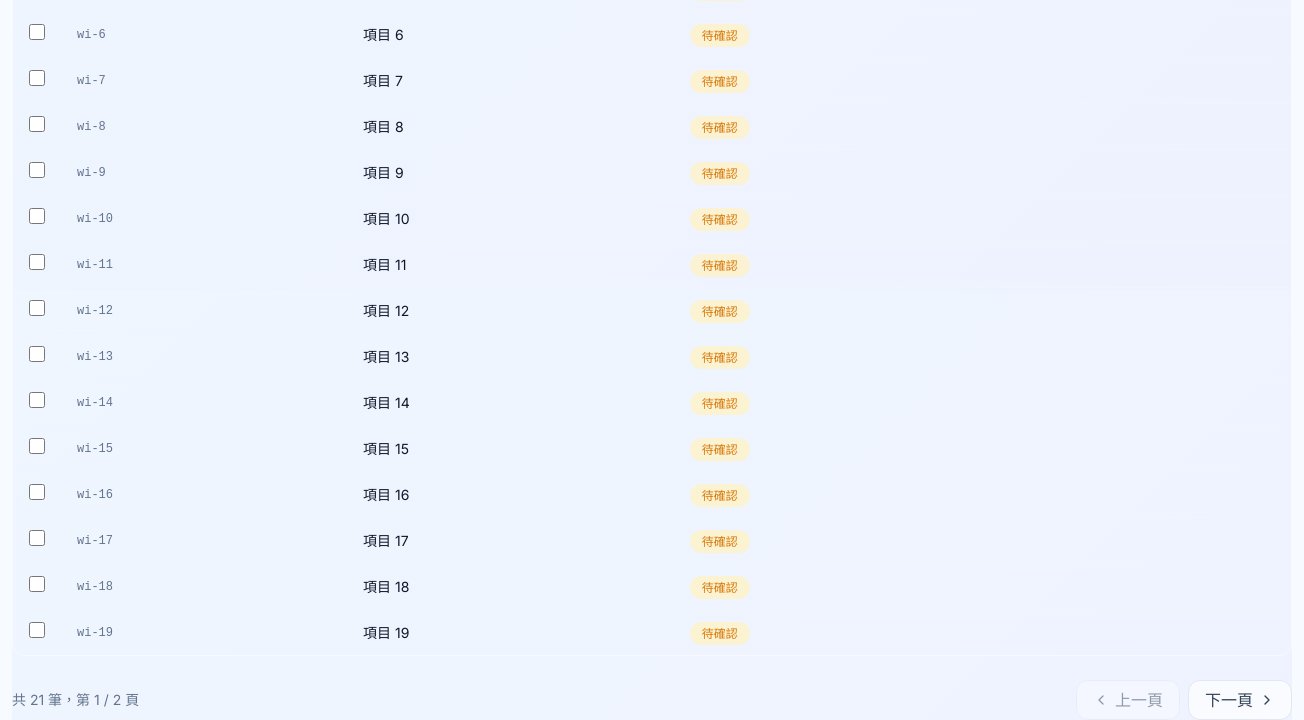
Test case: WorkItemsList › 分頁控制依 totalCount 渲染頁數並可翻頁
The width and height of the screenshot is (1304, 720).
(page scrolled)
Expected: the text "共 21 筆，第 1 / 2 頁" is shown, [12, 690, 139, 710]
Expected: the button "上一頁" is disabled, [1076, 680, 1180, 719]
Step 1. Click the button "下一頁" → (1240, 700), box [1188, 680, 1292, 719]
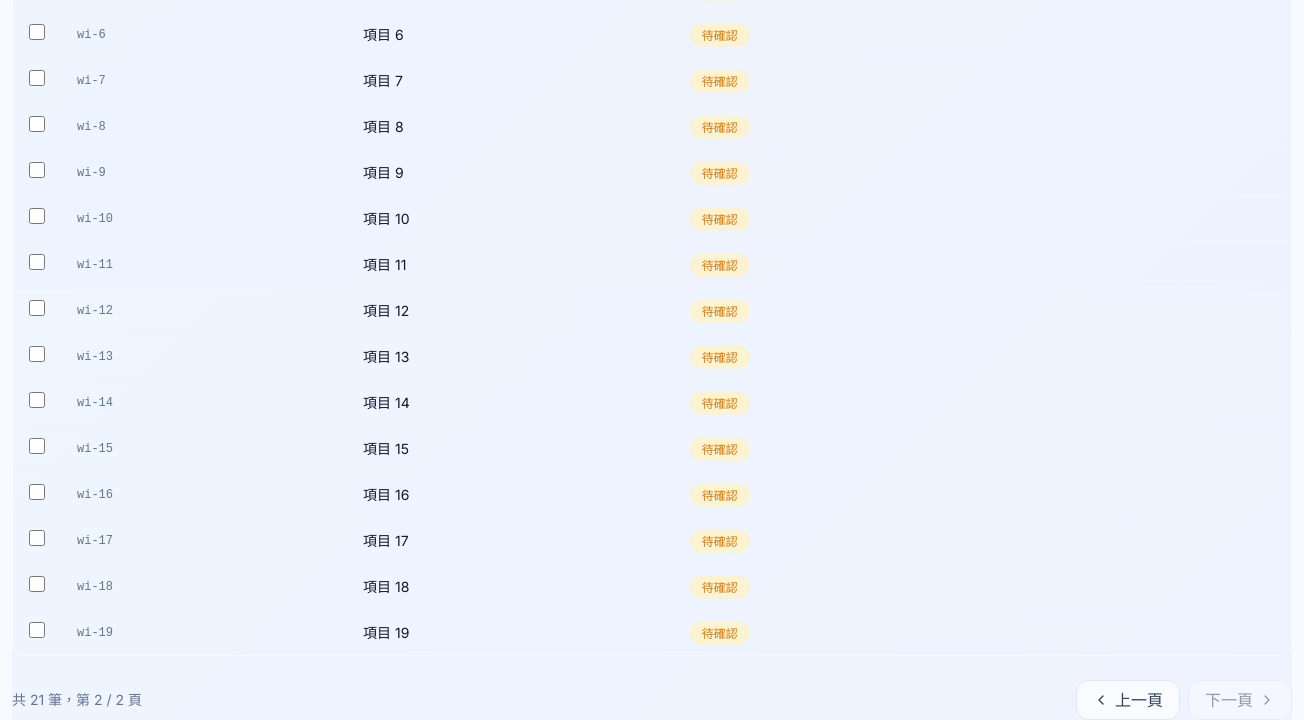
Expected: the text "共 21 筆，第 2 / 2 頁" is shown, [12, 690, 142, 710]
